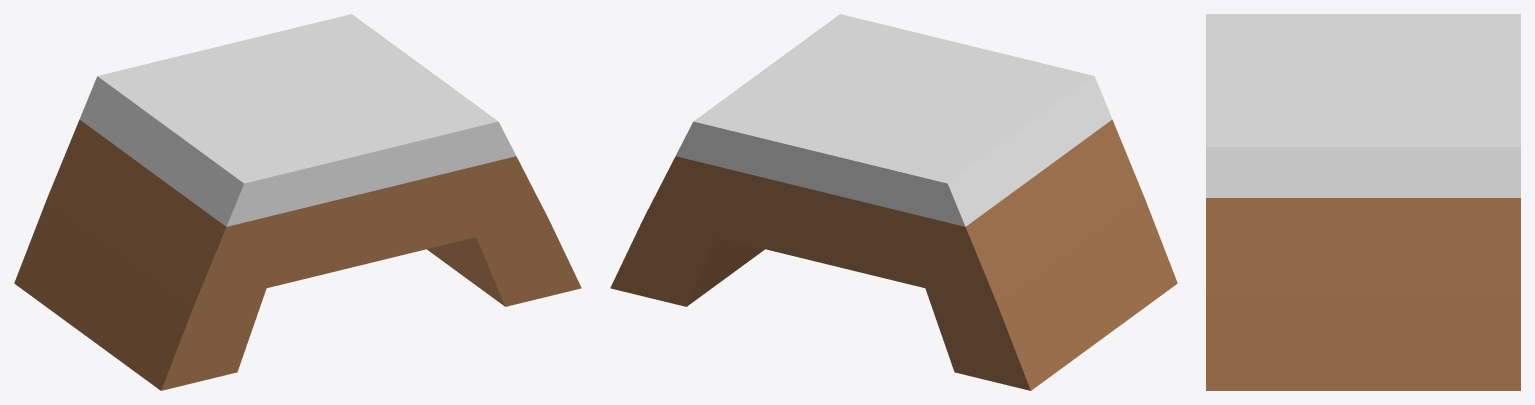
Rendered from Mockma.fbx.
The picture shows the model from 3 angles, left to right: view 1: azimuth 30°, elevation 25°; view 2: azimuth 150°, elevation 25°; view 3: azimuth 270°, elevation 25°; orthographic projection. The views are drawn at different scales.
Visible parts, largest first — view 1: 큐브; view 2: 큐브; view 3: 큐브.
Boxes of the visible parts, box(x1,y1,x2,y2) form: 큐브: box(14, 14, 581, 390); 큐브: box(610, 14, 1177, 390); 큐브: box(1206, 14, 1520, 390).
Bounding box in the file's own units: 126 × 53.6 × 76.28.
